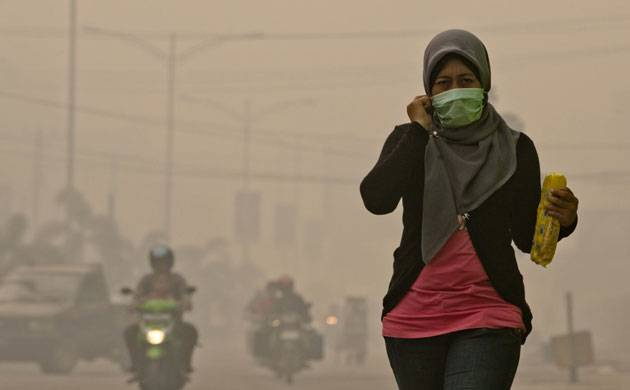mask: (405, 23, 513, 137)
